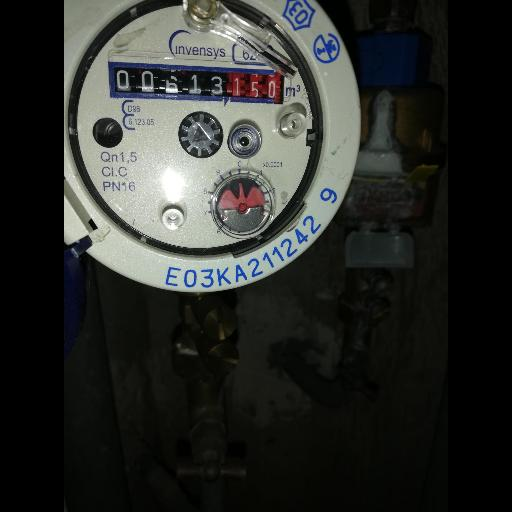0: (132, 66, 158, 94), (114, 67, 132, 94), (263, 74, 281, 100)
1: (182, 70, 206, 96), (228, 71, 247, 97)
3: (206, 70, 228, 96)
5: (245, 72, 263, 98)
6: (155, 69, 183, 96)
border_water_meter_number: (106, 62, 285, 107)
